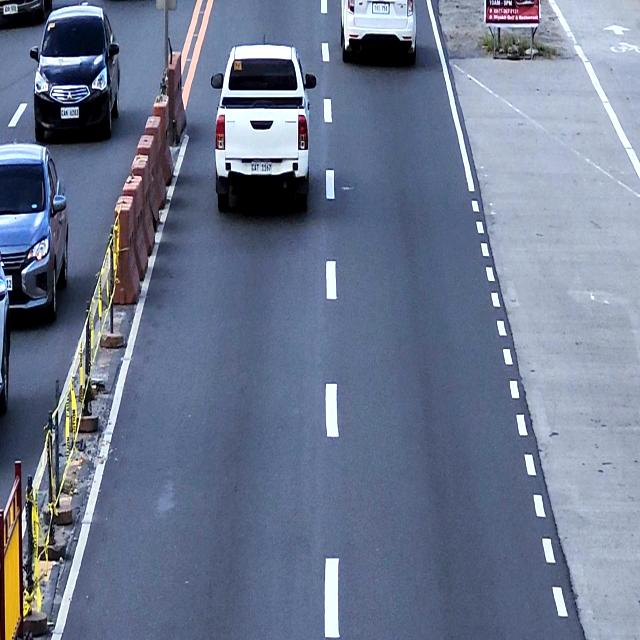Car: (210, 41, 317, 211), (29, 4, 120, 142), (0, 141, 68, 319), (340, 0, 417, 63), (0, 258, 11, 413), (0, 0, 52, 28)
License-Plate: (250, 160, 273, 175), (60, 107, 80, 119), (372, 2, 390, 14), (3, 4, 18, 16), (4, 275, 13, 293)
